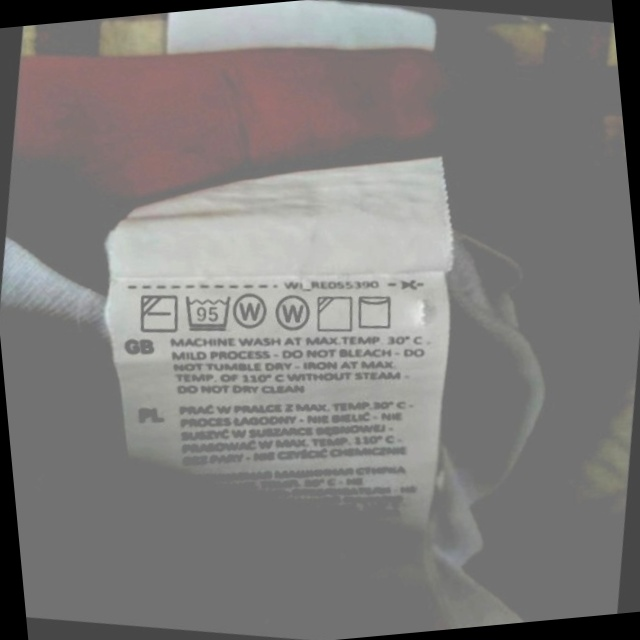95C: (177, 285, 239, 340)
dry_flat_in_shade: (132, 285, 186, 341)
line_dry: (349, 285, 402, 337)
shade_dry: (309, 287, 361, 340)
wet_clean: (268, 287, 318, 339), (227, 283, 276, 336)
